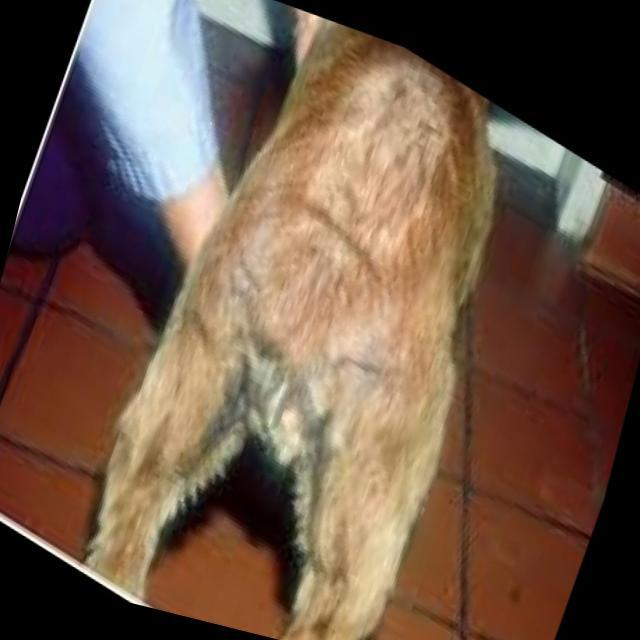allergic dermatitis: (320, 59, 446, 274)
